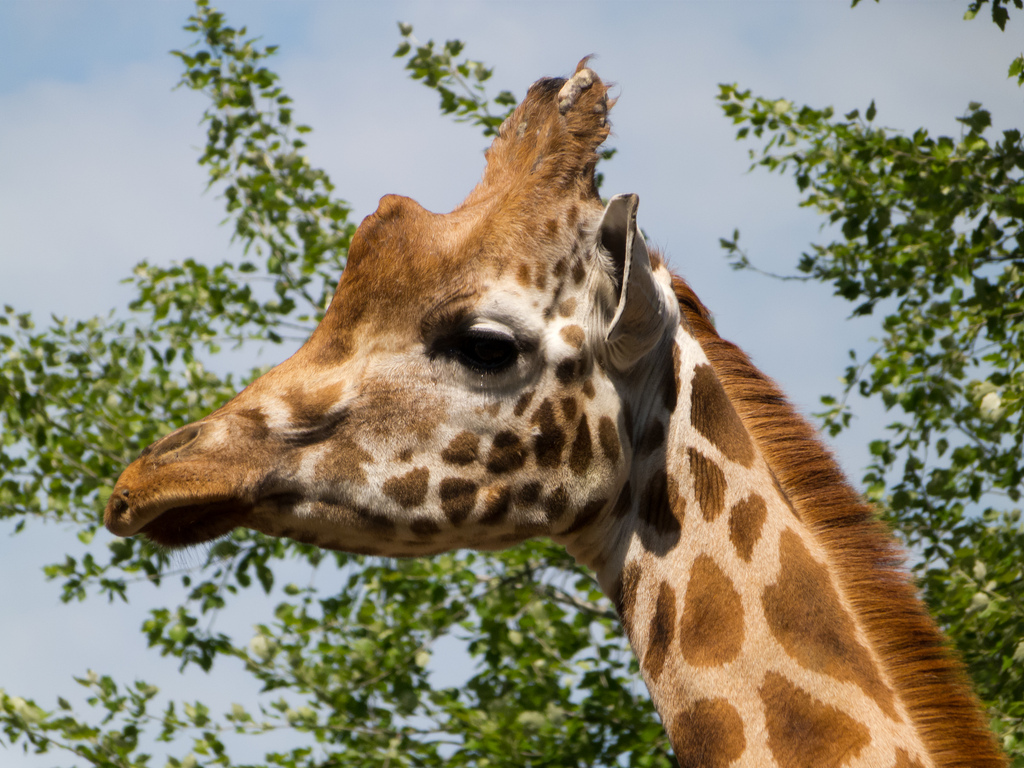giraffe: (124, 134, 995, 758)
